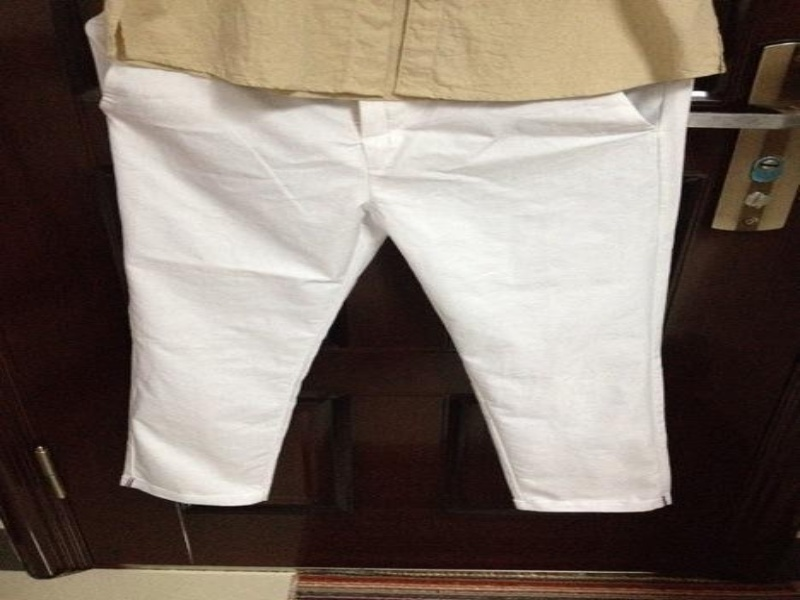short_sleeved_outwear: (94, 0, 735, 107)
trousers: (74, 1, 697, 516)
